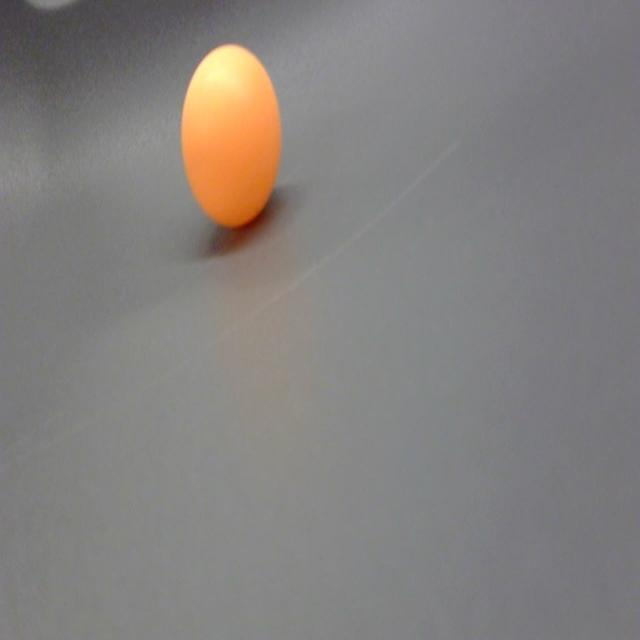ball: (179, 42, 284, 230)
